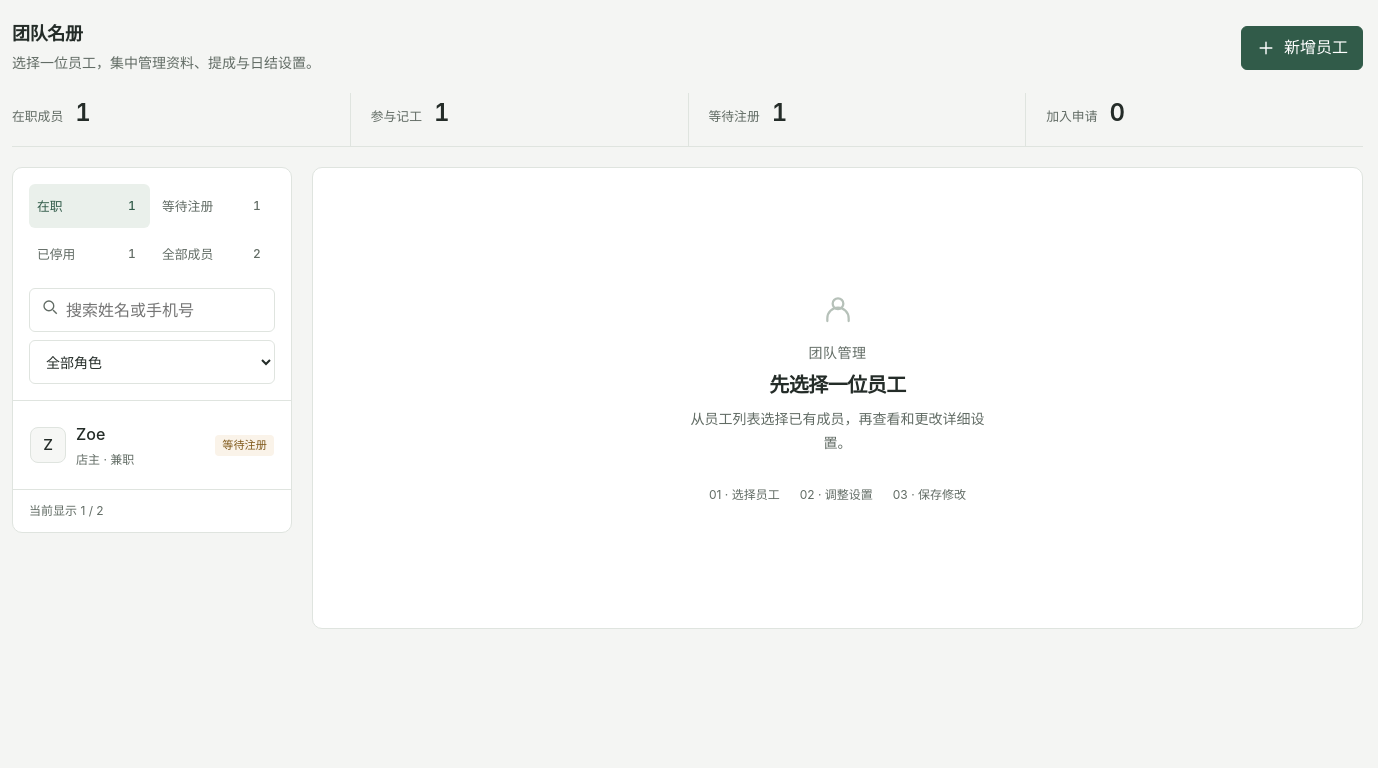
employee-first member management › shows stopped employees as read-only and keeps owner deactivation out of account actions
The width and height of the screenshot is (1378, 768).
Click the button "已停用 1".
click(90, 254)  # box [29, 232, 150, 276]
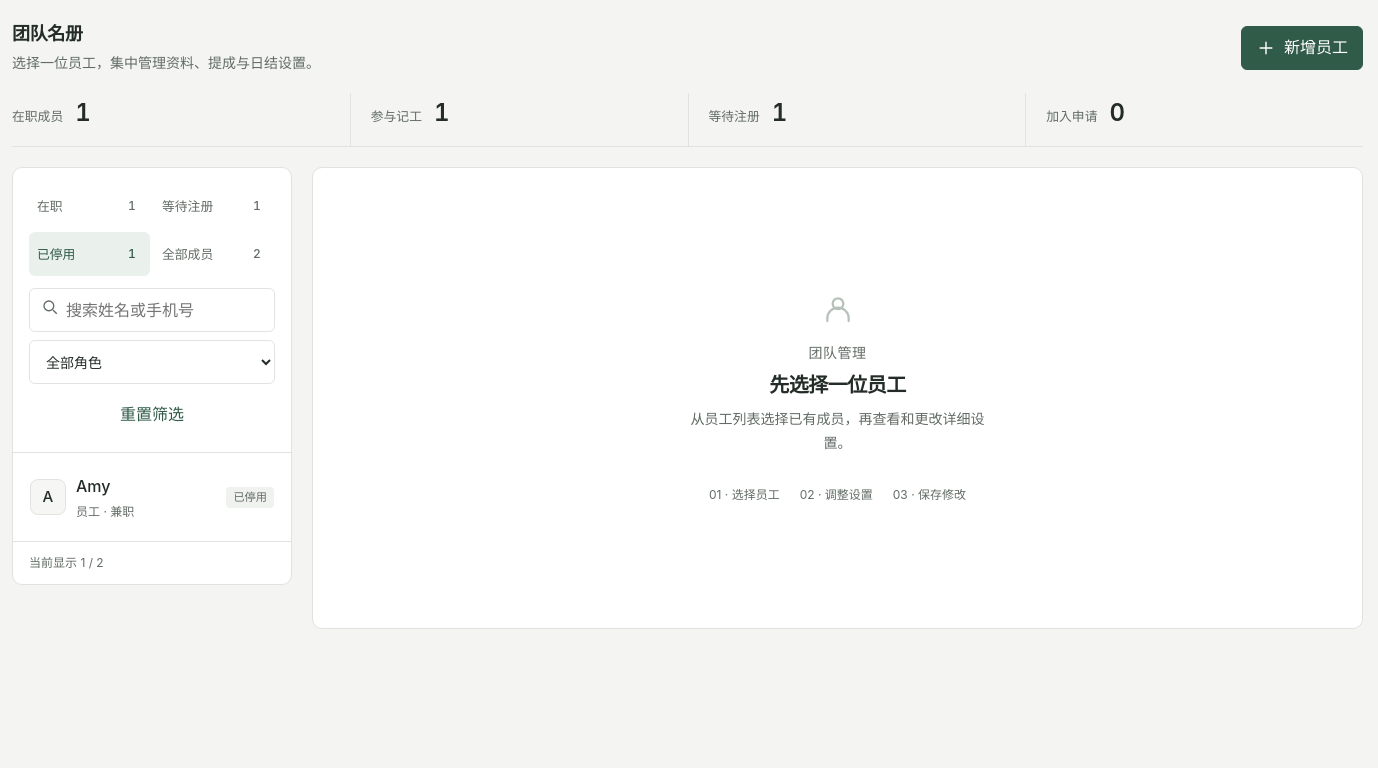
Click the button "A Amy 员工 · 兼职 已停用".
click(48, 497)  # box [19, 460, 285, 536]
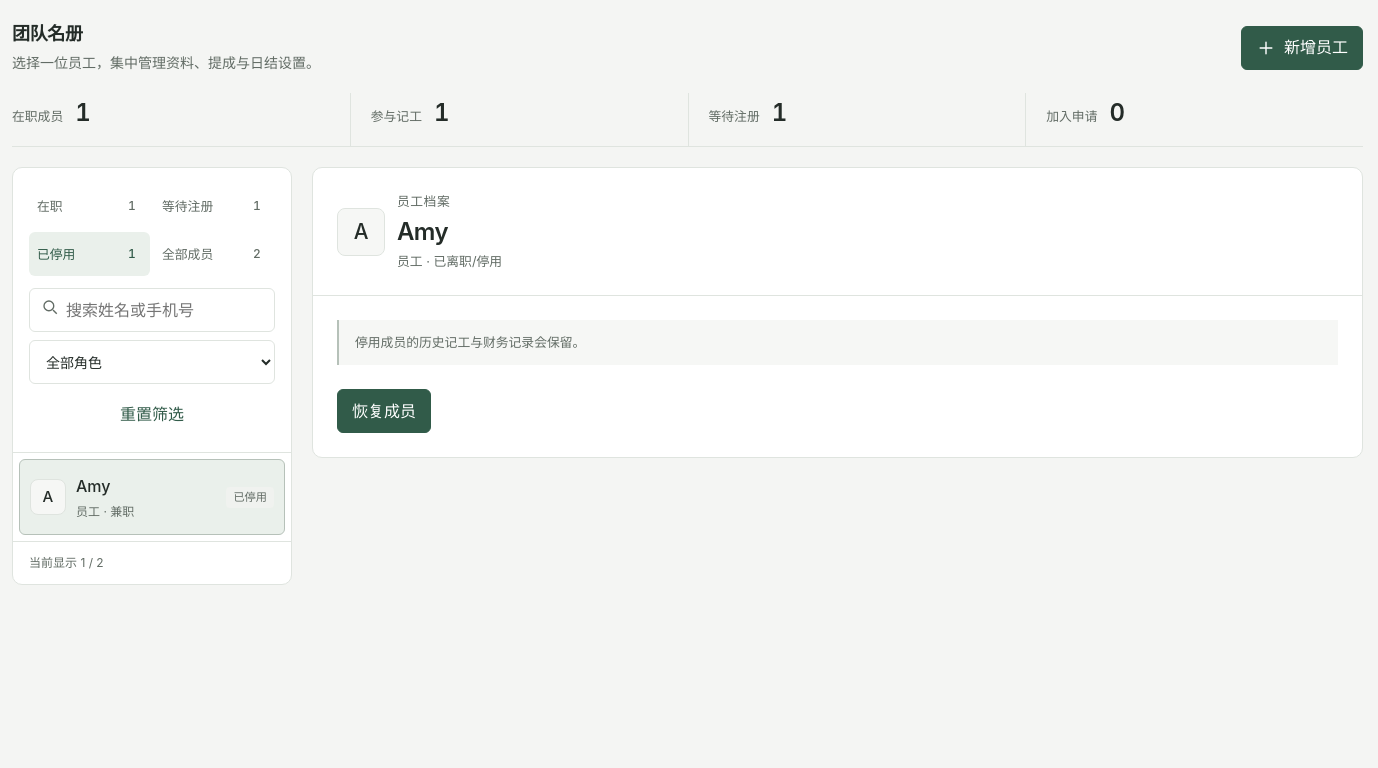
Result: the element with class "member-detail" shows "恢复成员" at [337, 389, 431, 433]
Click the button "在职 1".
click(90, 206)  # box [29, 184, 150, 228]
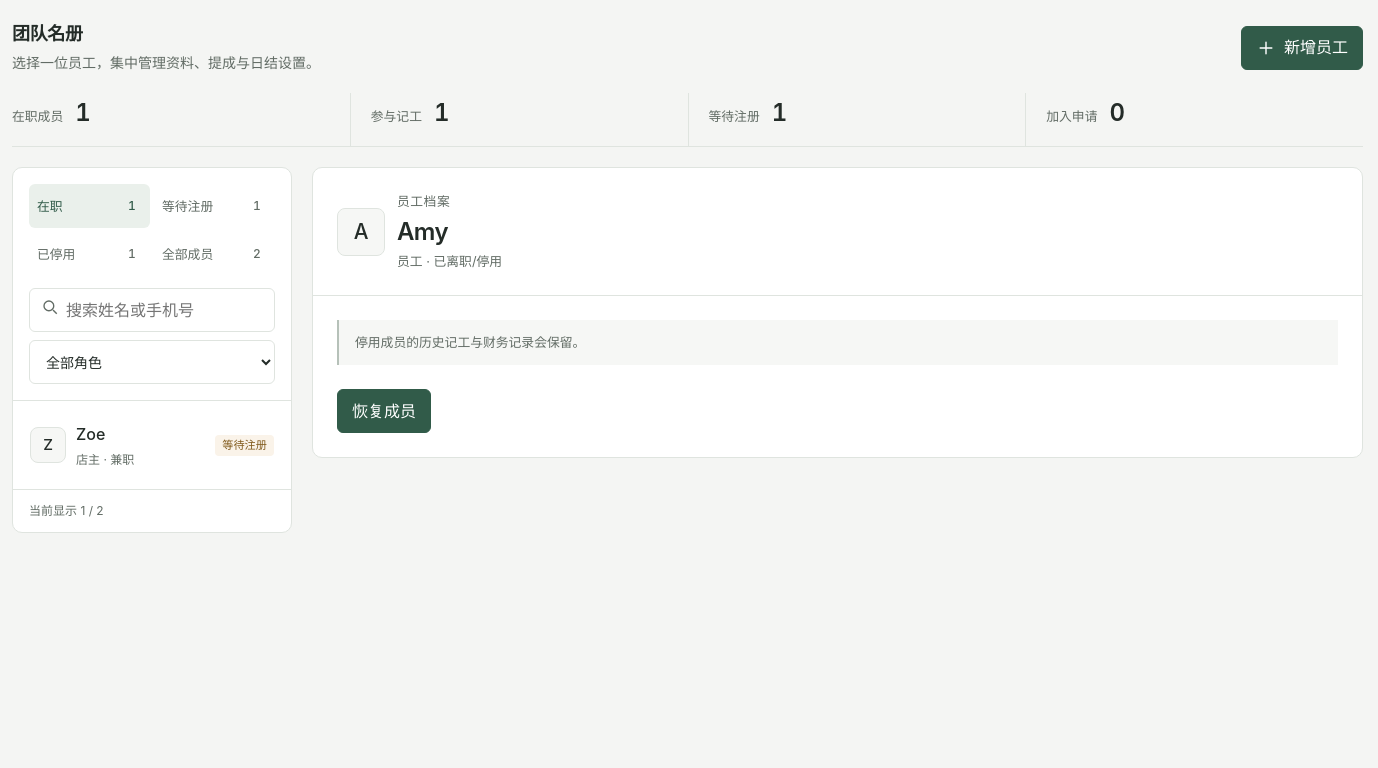
Click the button "Z Zoe 店主 · 兼职 等待注册".
click(48, 445)  # box [19, 408, 285, 484]
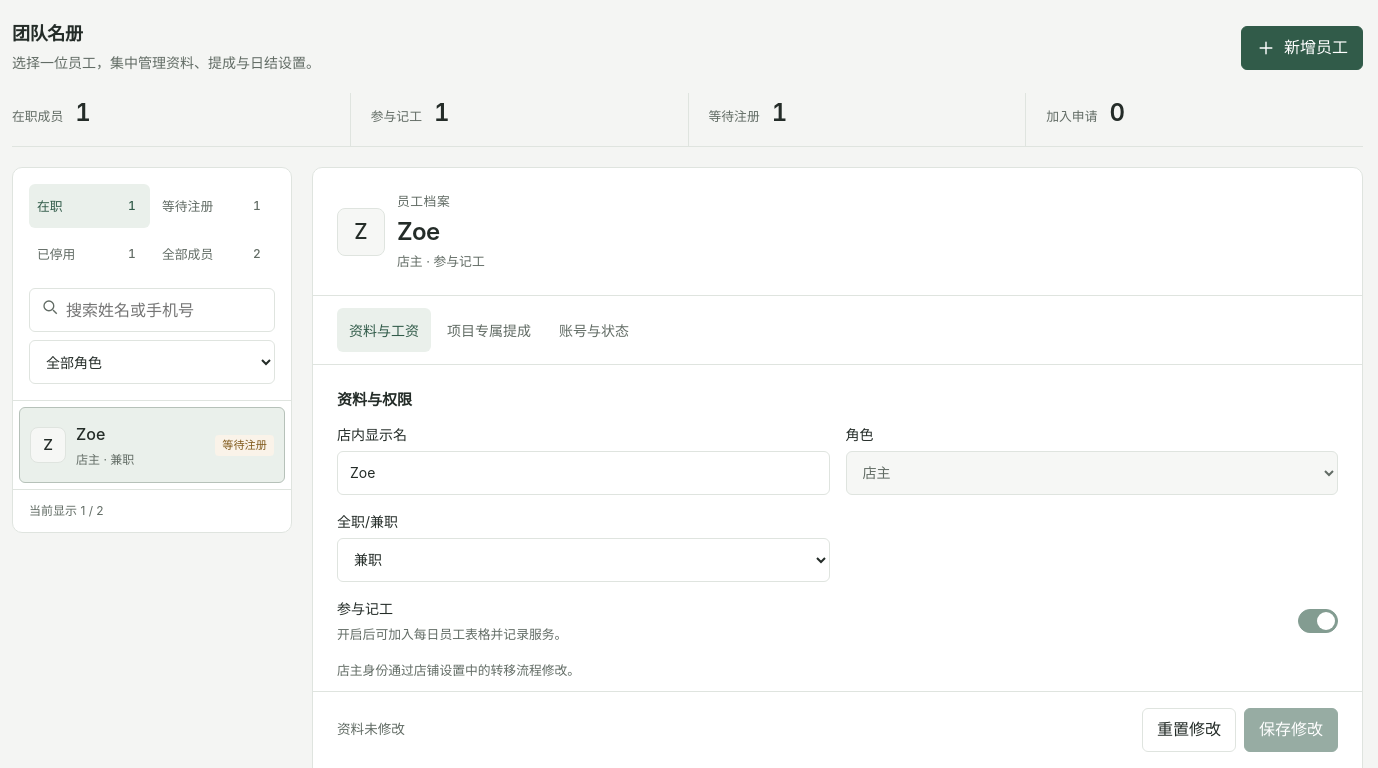
Click the button "账号与状态".
click(594, 330)  # box [547, 308, 641, 352]
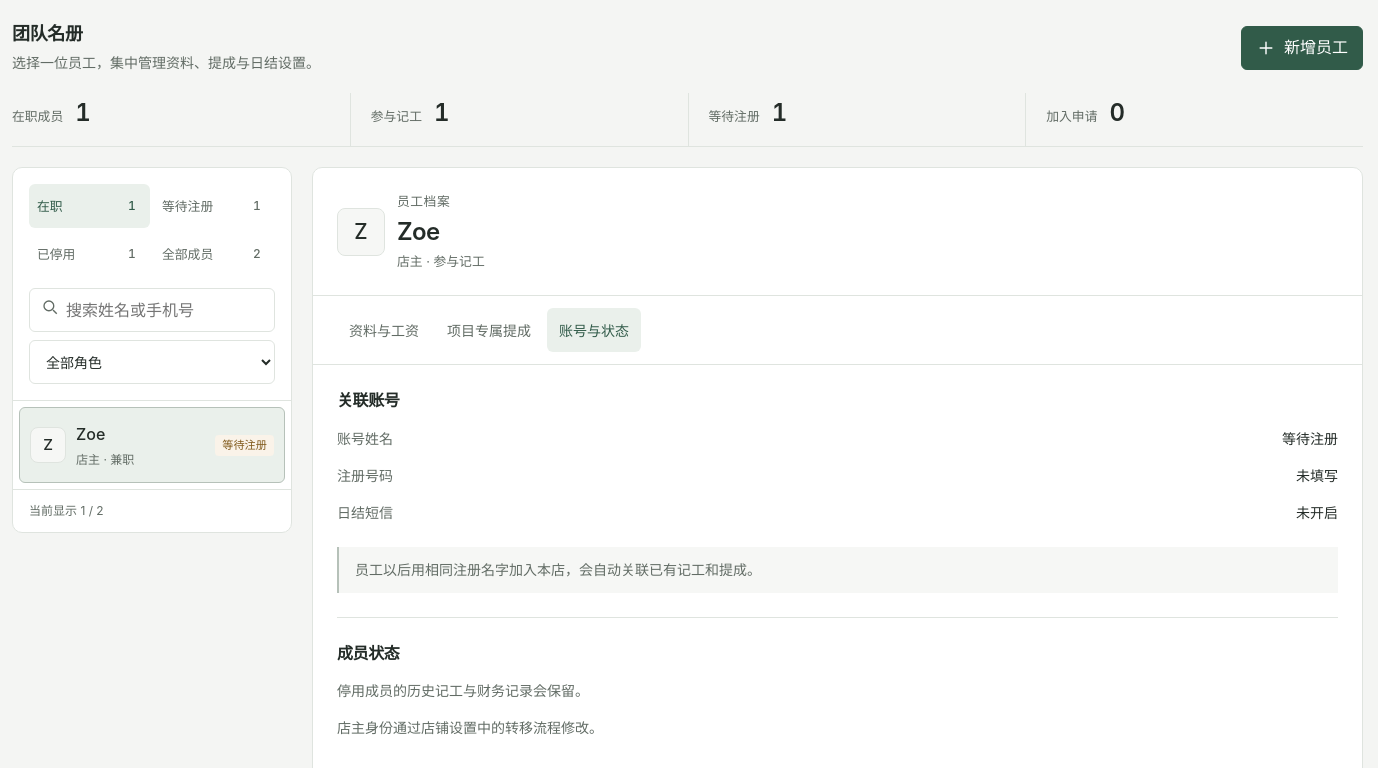
Result: the text "店主身份通过店铺设置中的转移流程修改" is shown at [337, 719, 603, 736]
Result: the button "重置修改" is gone
